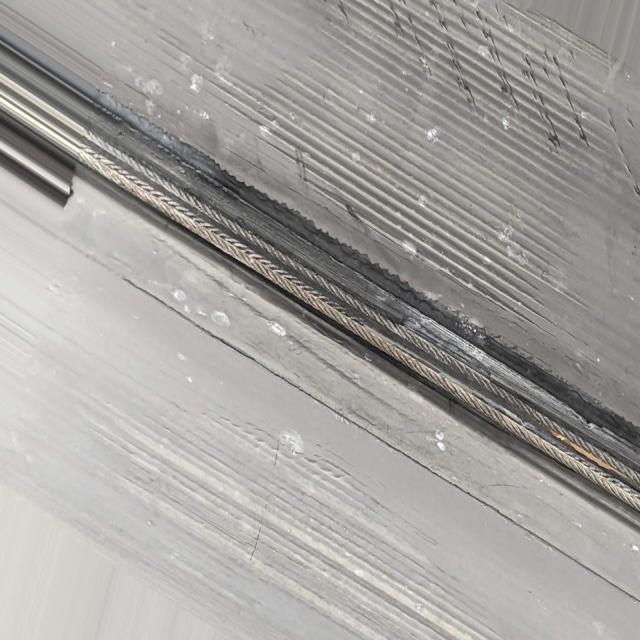Tear: (75, 106, 640, 524)
Wear: (228, 0, 640, 325)
